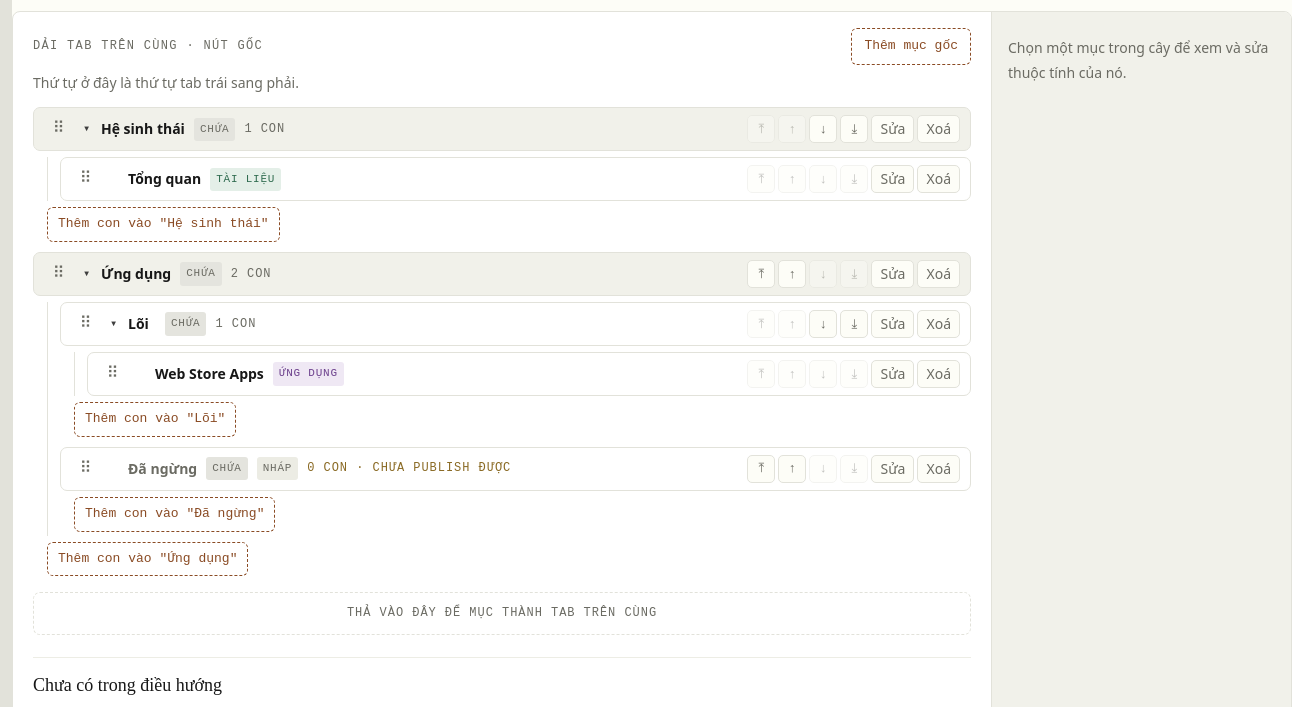
Scenario: NavEditor › lỗi từ tầng ghi nổi lên tận giao diện, không bị bắt im
Click the button "Đã ngừng" at point(163, 469), box [128, 455, 197, 483]
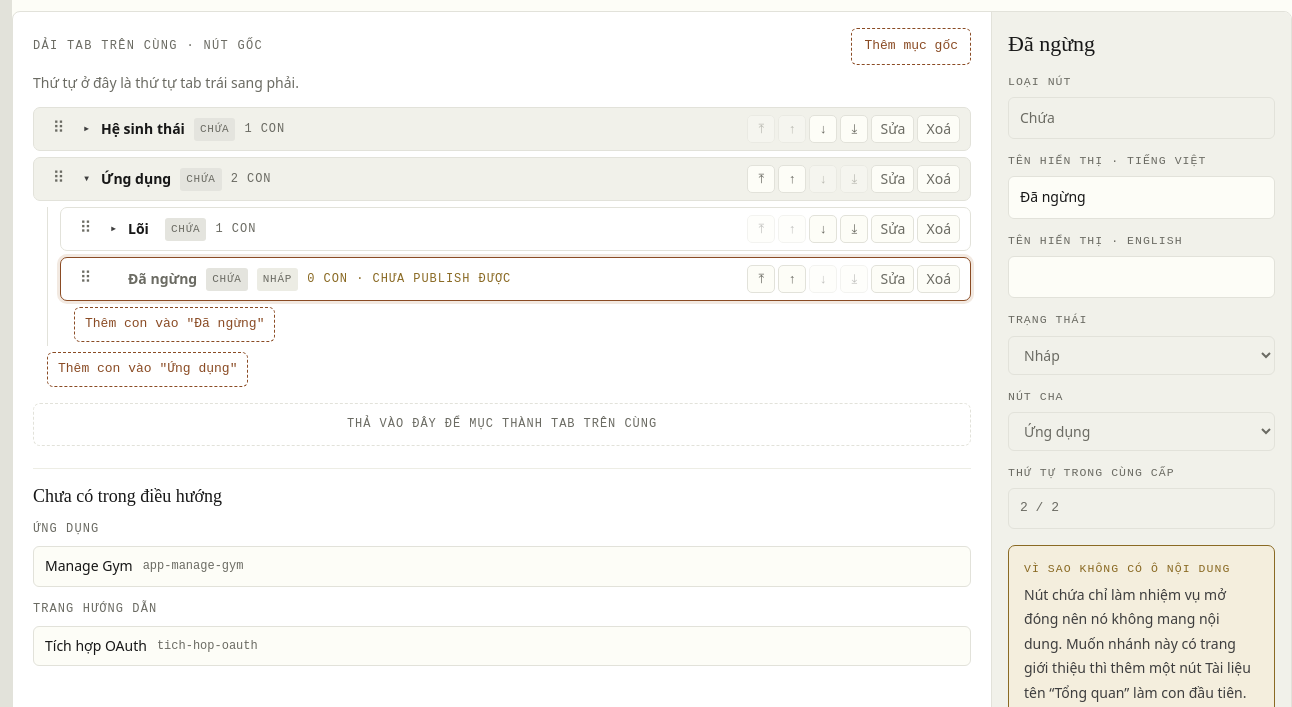
Select "Công khai" in the dropdown labelled "Trạng thái" at point(1142, 355), box [1008, 336, 1275, 374]
(page scrolled)
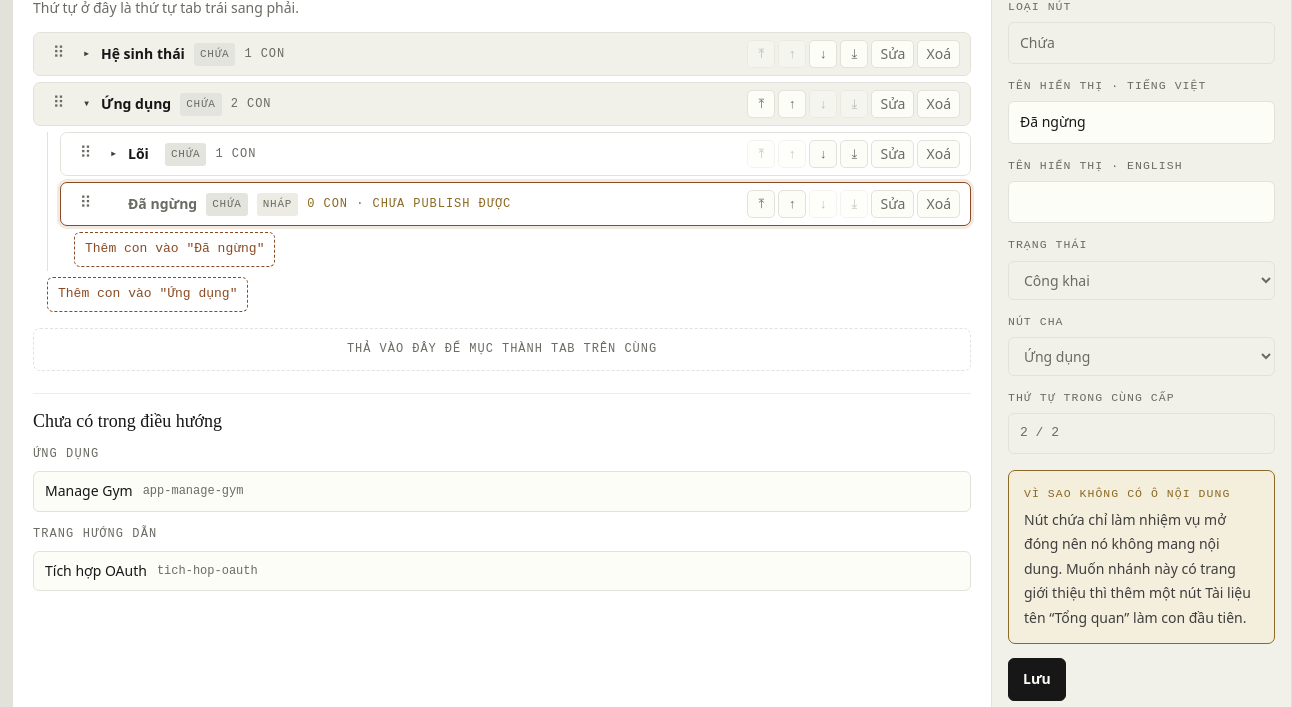
Click the button "Lưu" at point(1037, 679), box [1008, 658, 1066, 701]
(page scrolled)
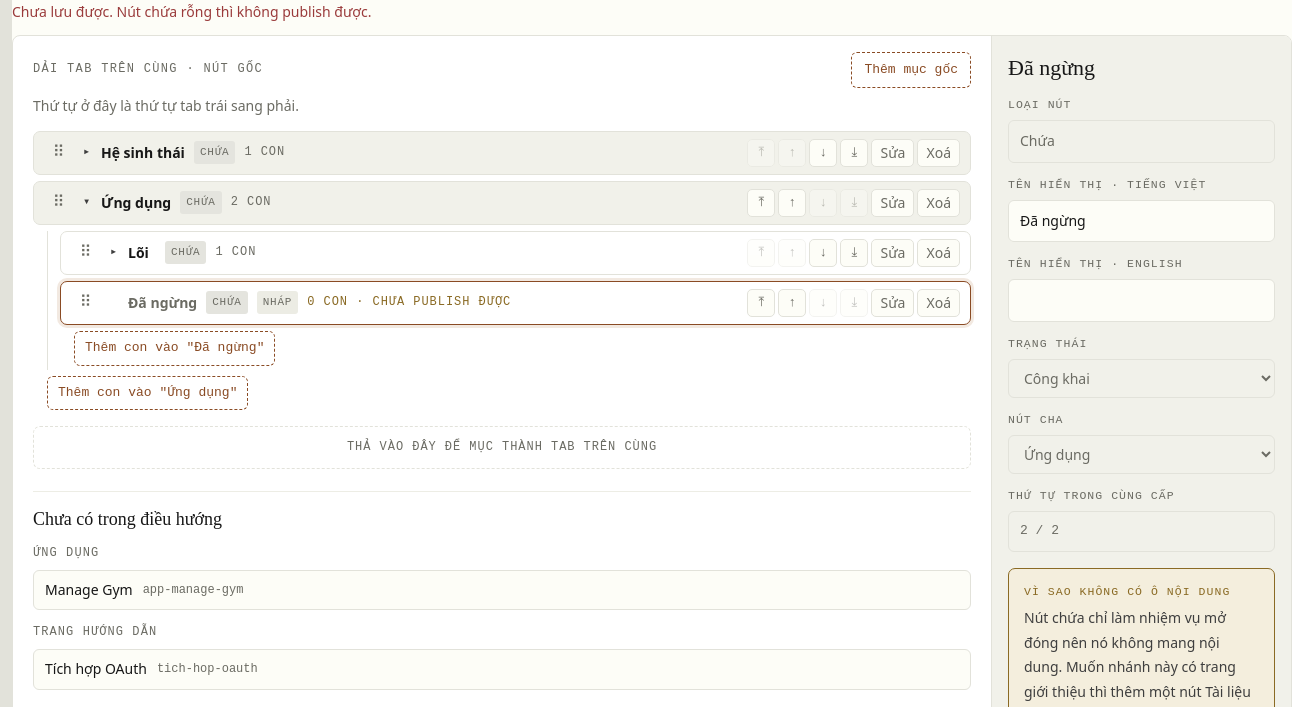
Now the text "Chưa lưu được. Nút chứa rỗng thì không publish được." is shown, box [12, 2, 372, 21]
